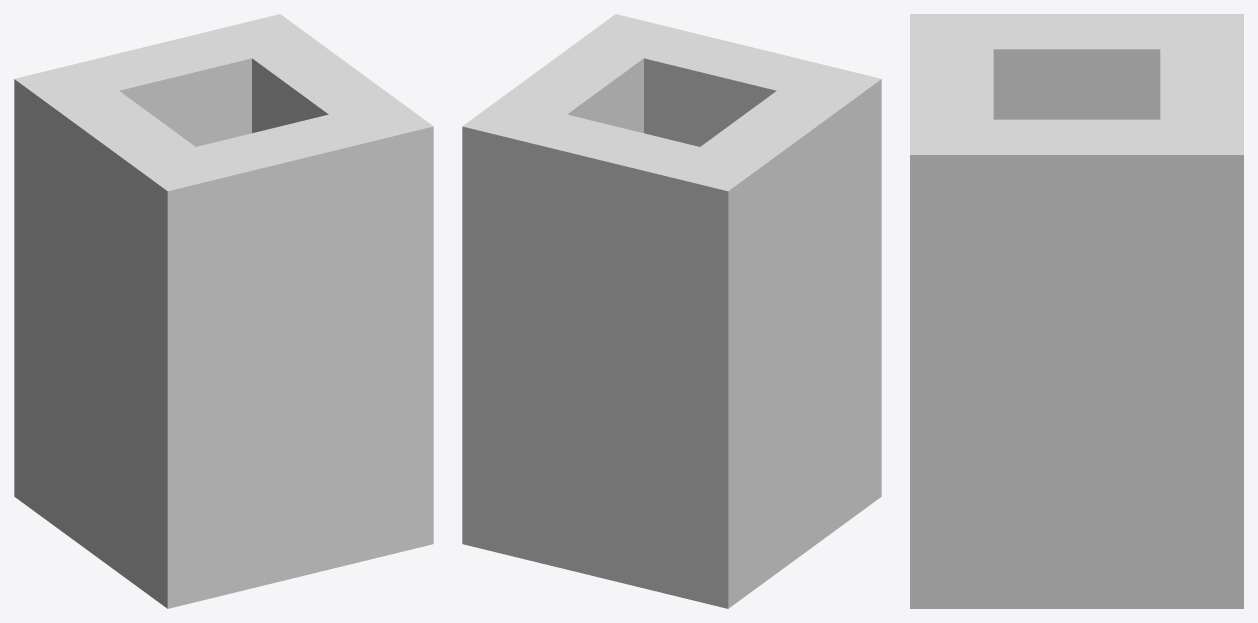
The model's file is glass_01.glb.
3 views of the same model, side by side, from view 1: azimuth 30°, elevation 25°; view 2: azimuth 150°, elevation 25°; view 3: azimuth 270°, elevation 25° (orthographic). The views are drawn at different scales.
Parts seen in each view (by area): view 1: Untitled; view 2: Untitled; view 3: Untitled.
Boxes of the visible parts, left/top/right/bottom form: Untitled: left=14, top=14, right=433, bottom=608; Untitled: left=462, top=14, right=881, bottom=608; Untitled: left=910, top=14, right=1243, bottom=608.
Size of the model in its own units: 0.12 by 0.18 by 0.12.
1 material, 1 textured.
